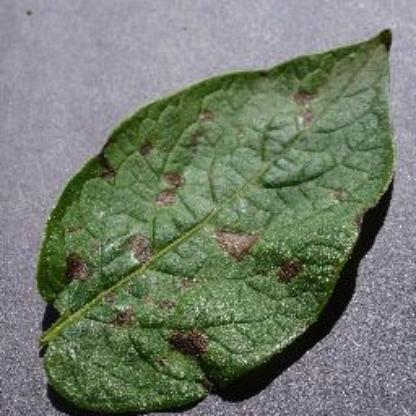Early-Blight: (38, 19, 400, 412)
